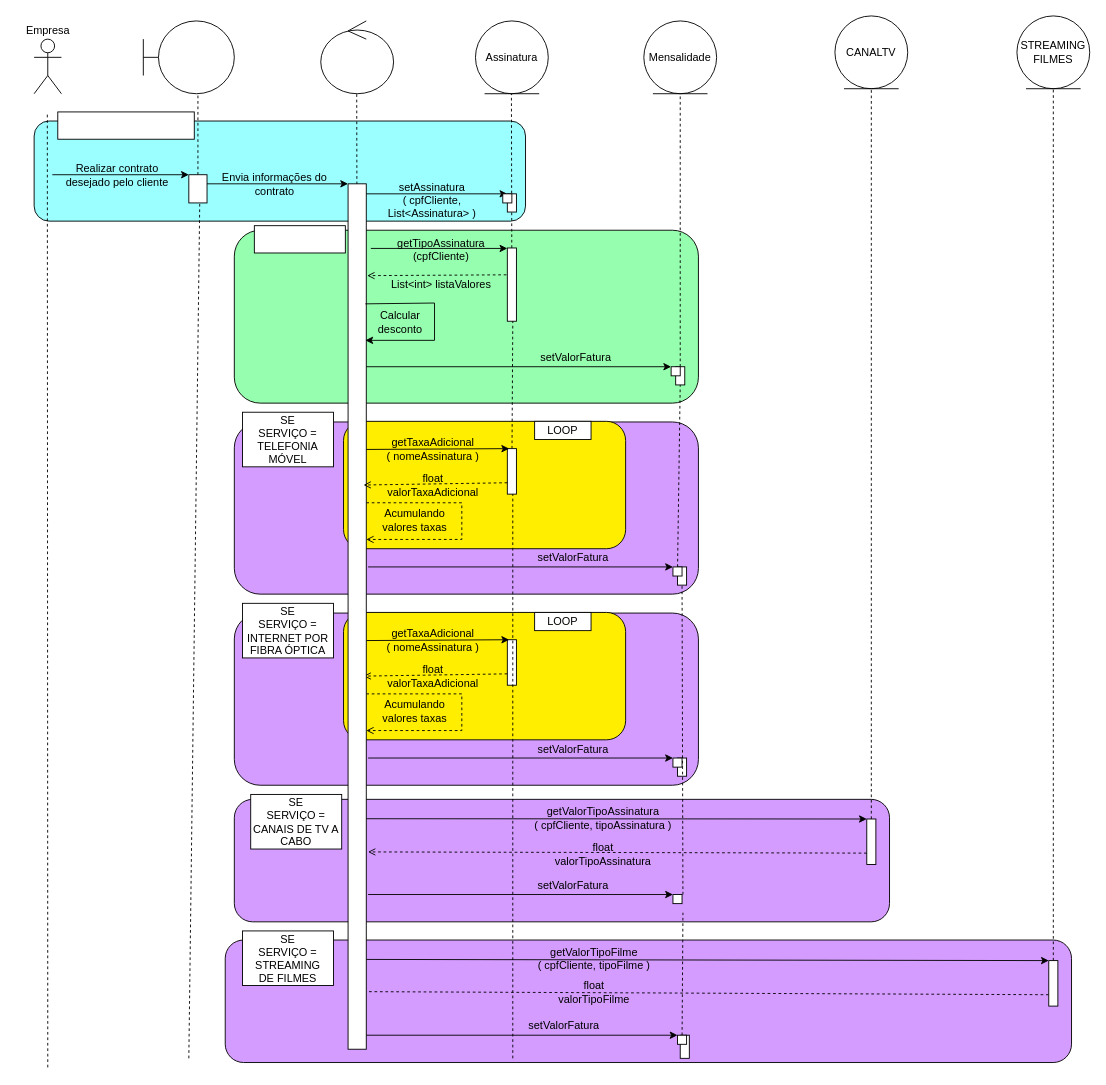
Some shapes in this 1106 by 1085 pixel diagram are drawn without their labels. The centre of each missing label's shape, as x and y in pixels:
Actor: point 47,66
Gerencia-mento de serviços: point 357,57
SE O CLIENTE FOR CADASTRADO: point 125,125
SE QTD SERVIÇOS > 1: point 299,239
Tela de Contratação de Serviços: point 188,57
